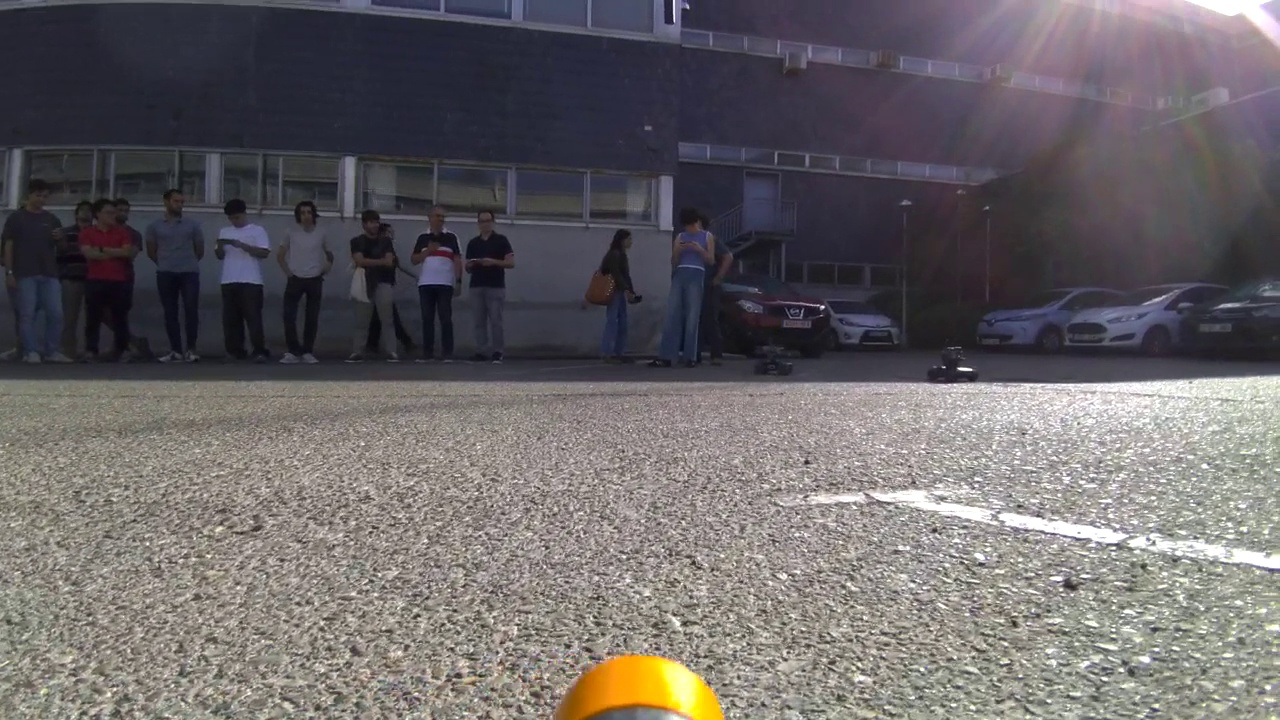robot: (929, 338, 978, 386), (755, 338, 797, 383)
